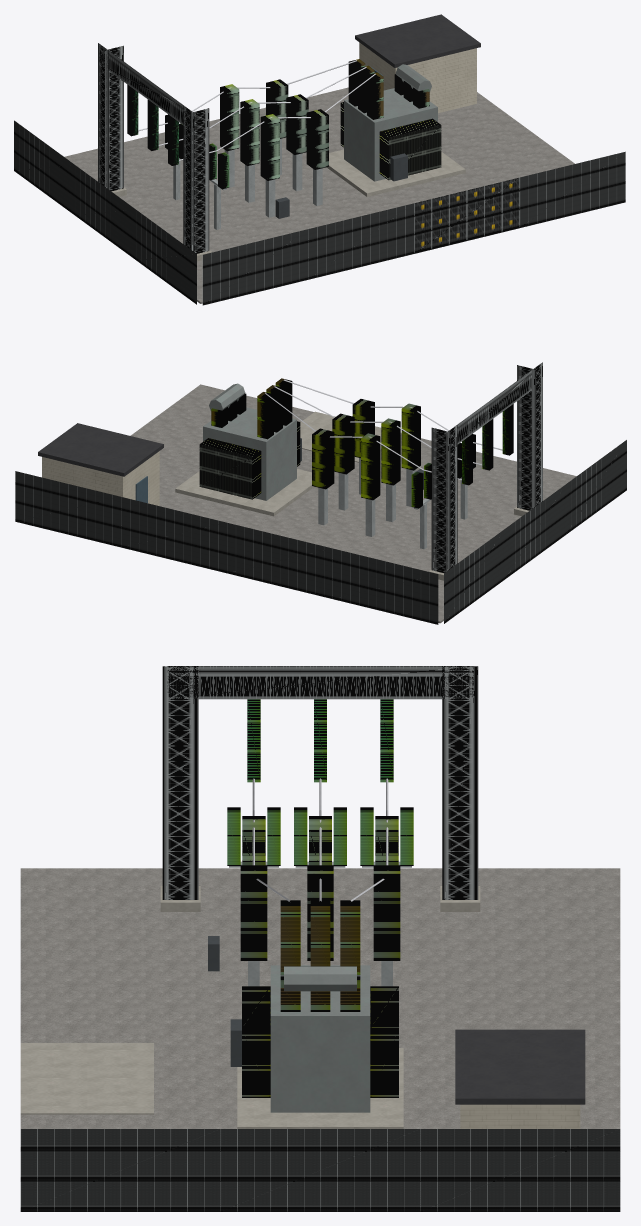
The model's file is substation.glb.
The picture shows the model from 3 angles, top to bottom: view 1: azimuth 30°, elevation 25°; view 2: azimuth 150°, elevation 25°; view 3: azimuth 270°, elevation 25°; orthographic projection. The views are drawn at different scales.
Visible parts, largest first — view 1: substation; view 2: substation; view 3: substation.
Boxes of the visible parts, x1,y1,x2,y2 form: substation: (14, 14, 625, 305); substation: (15, 362, 626, 624); substation: (20, 666, 620, 1211).
Bounding box in the file's own units: 24.4 × 8.29 × 18.4.
Materials: 20 (20 with a texture image).
